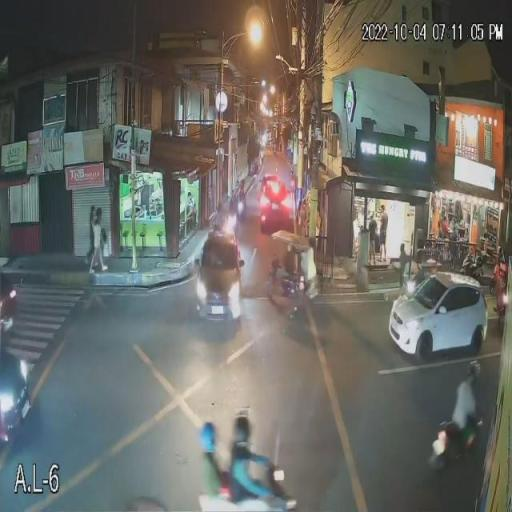helmet: (198, 415, 221, 461), (233, 412, 254, 452), (464, 361, 486, 381)
motorcycle: (197, 465, 295, 512), (427, 410, 486, 476), (225, 212, 241, 241), (234, 197, 250, 225)
rider: (230, 402, 264, 496), (190, 414, 220, 508), (452, 358, 490, 426), (228, 196, 238, 220), (239, 177, 249, 196)
